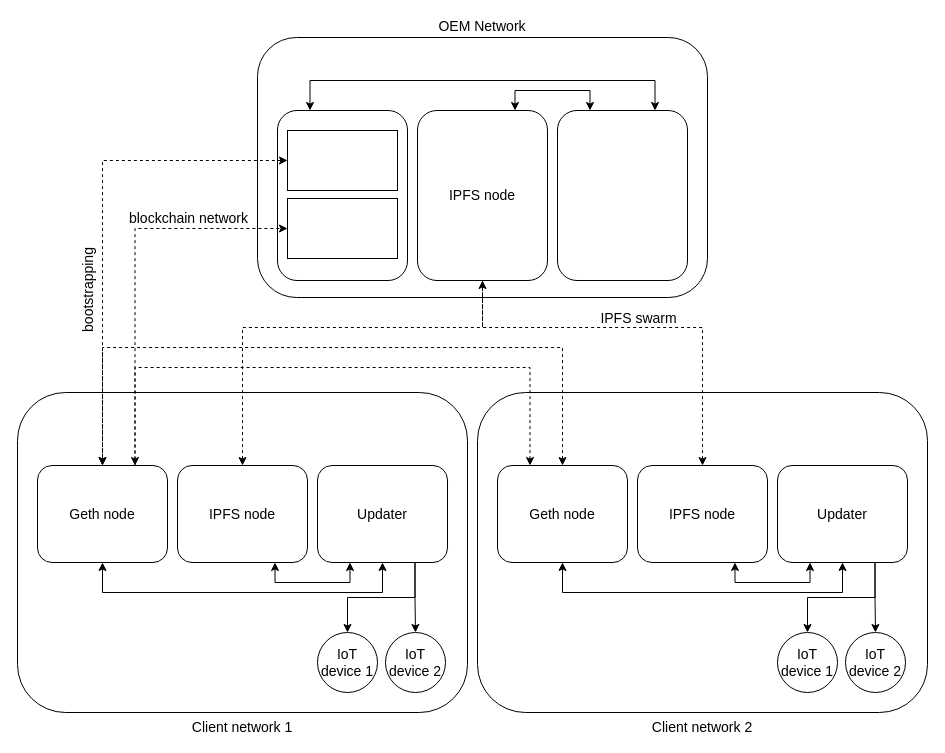
Image size: 945x753. Some labels were removed from this diagram. The shapes that lost their labels are listed below. From the top down, each one's centre as x and y in pixels, then its label:
At pixel 342 160: "Bootnode".
At pixel 622 195: "OEM WebServer".
At pixel 342 228: "Geth signer".
